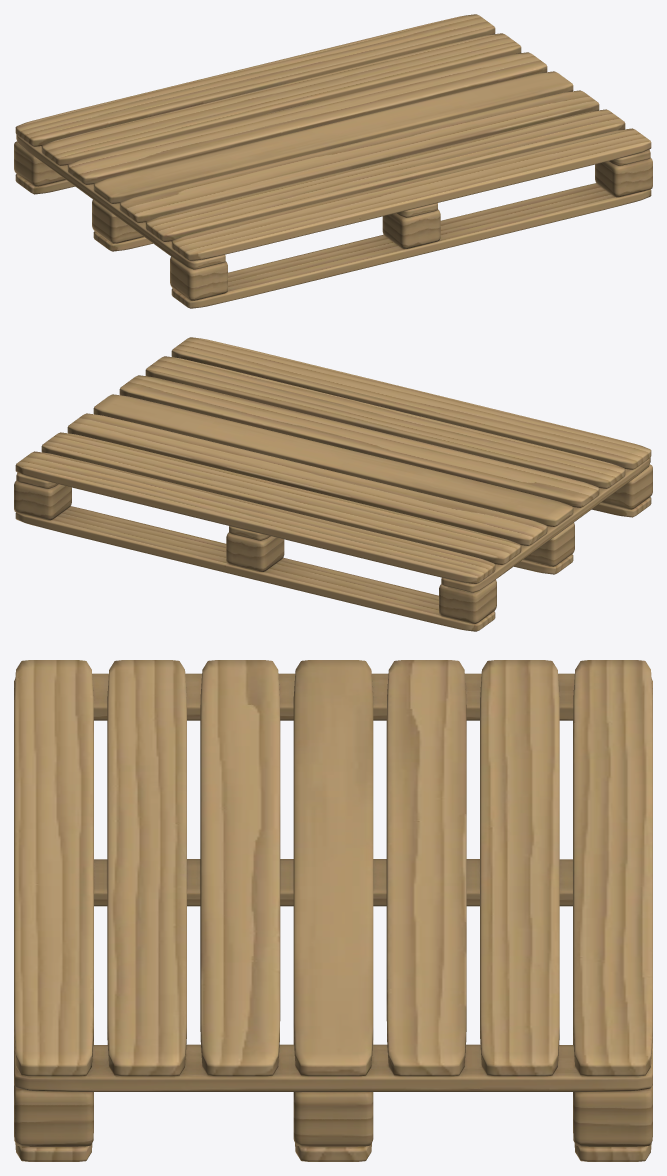
Rendered from euro.glb.
3 views of the same model, one above another, from view 1: azimuth 30°, elevation 25°; view 2: azimuth 150°, elevation 25°; view 3: azimuth 270°, elevation 25° (orthographic). The views are drawn at different scales.
Parts seen in each view (by area): view 1: pallet_wood, pallet_wood_y; view 2: pallet_wood, pallet_wood_y; view 3: pallet_wood, pallet_wood_y.
Boxes of the visible parts, x1,y1,x2,y2 form: pallet_wood: [15, 14, 651, 308]; pallet_wood_y: [14, 134, 652, 300]; pallet_wood: [15, 337, 651, 631]; pallet_wood_y: [14, 457, 652, 623]; pallet_wood: [14, 660, 652, 1161]; pallet_wood_y: [14, 673, 652, 1146].
Size of the model in its own units: 1.2 by 0.14 by 0.8.
Materials: 2 (2 with a texture image).
